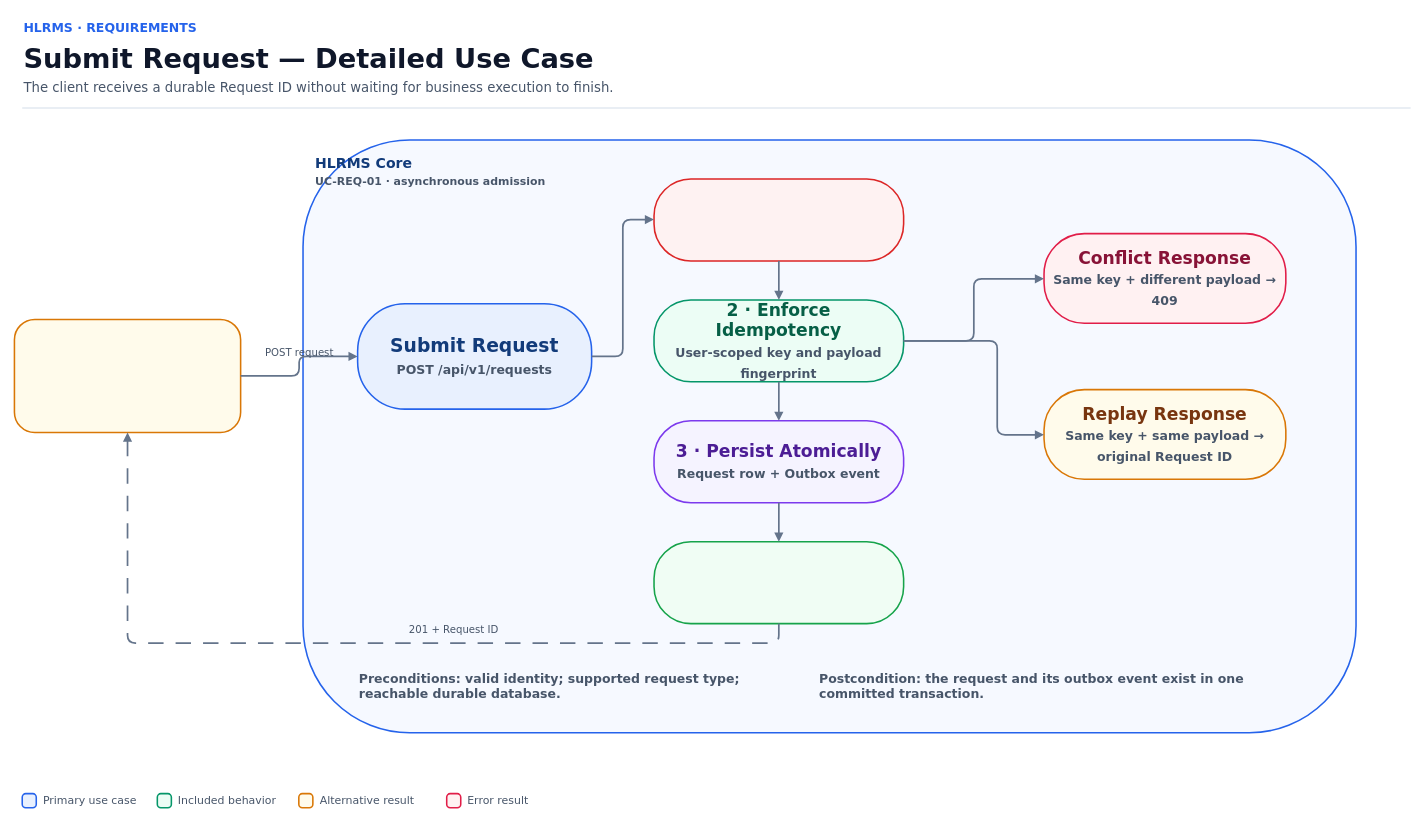
Image size: 1425x825. Some labels were removed from this diagram. Here are the shapes that lost their labels. From the top down, the centre of each, then its label:
At (778,219): "1 · Validate Input JWT identity · schema · request type".
At (127,375): "Authenticated Caller JWT identity · payload · Idempotency-Key".
At (778,582): "4 · Return Acceptance 201 Created + Request ID + PENDING".
